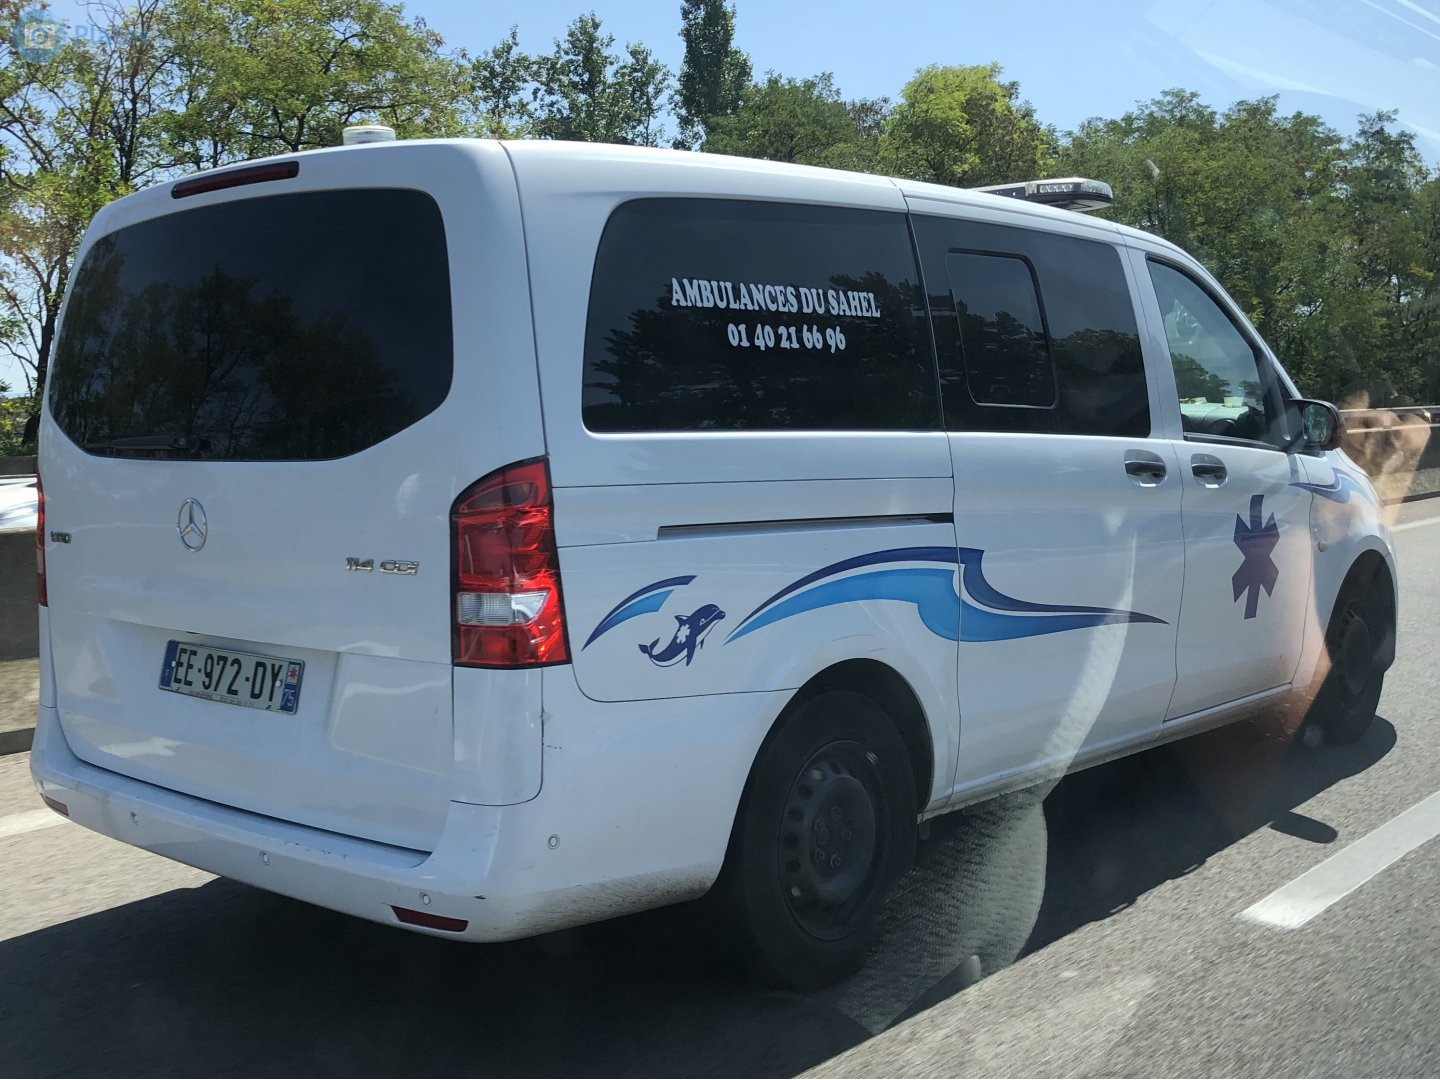licence plate: (154, 629, 311, 720)
